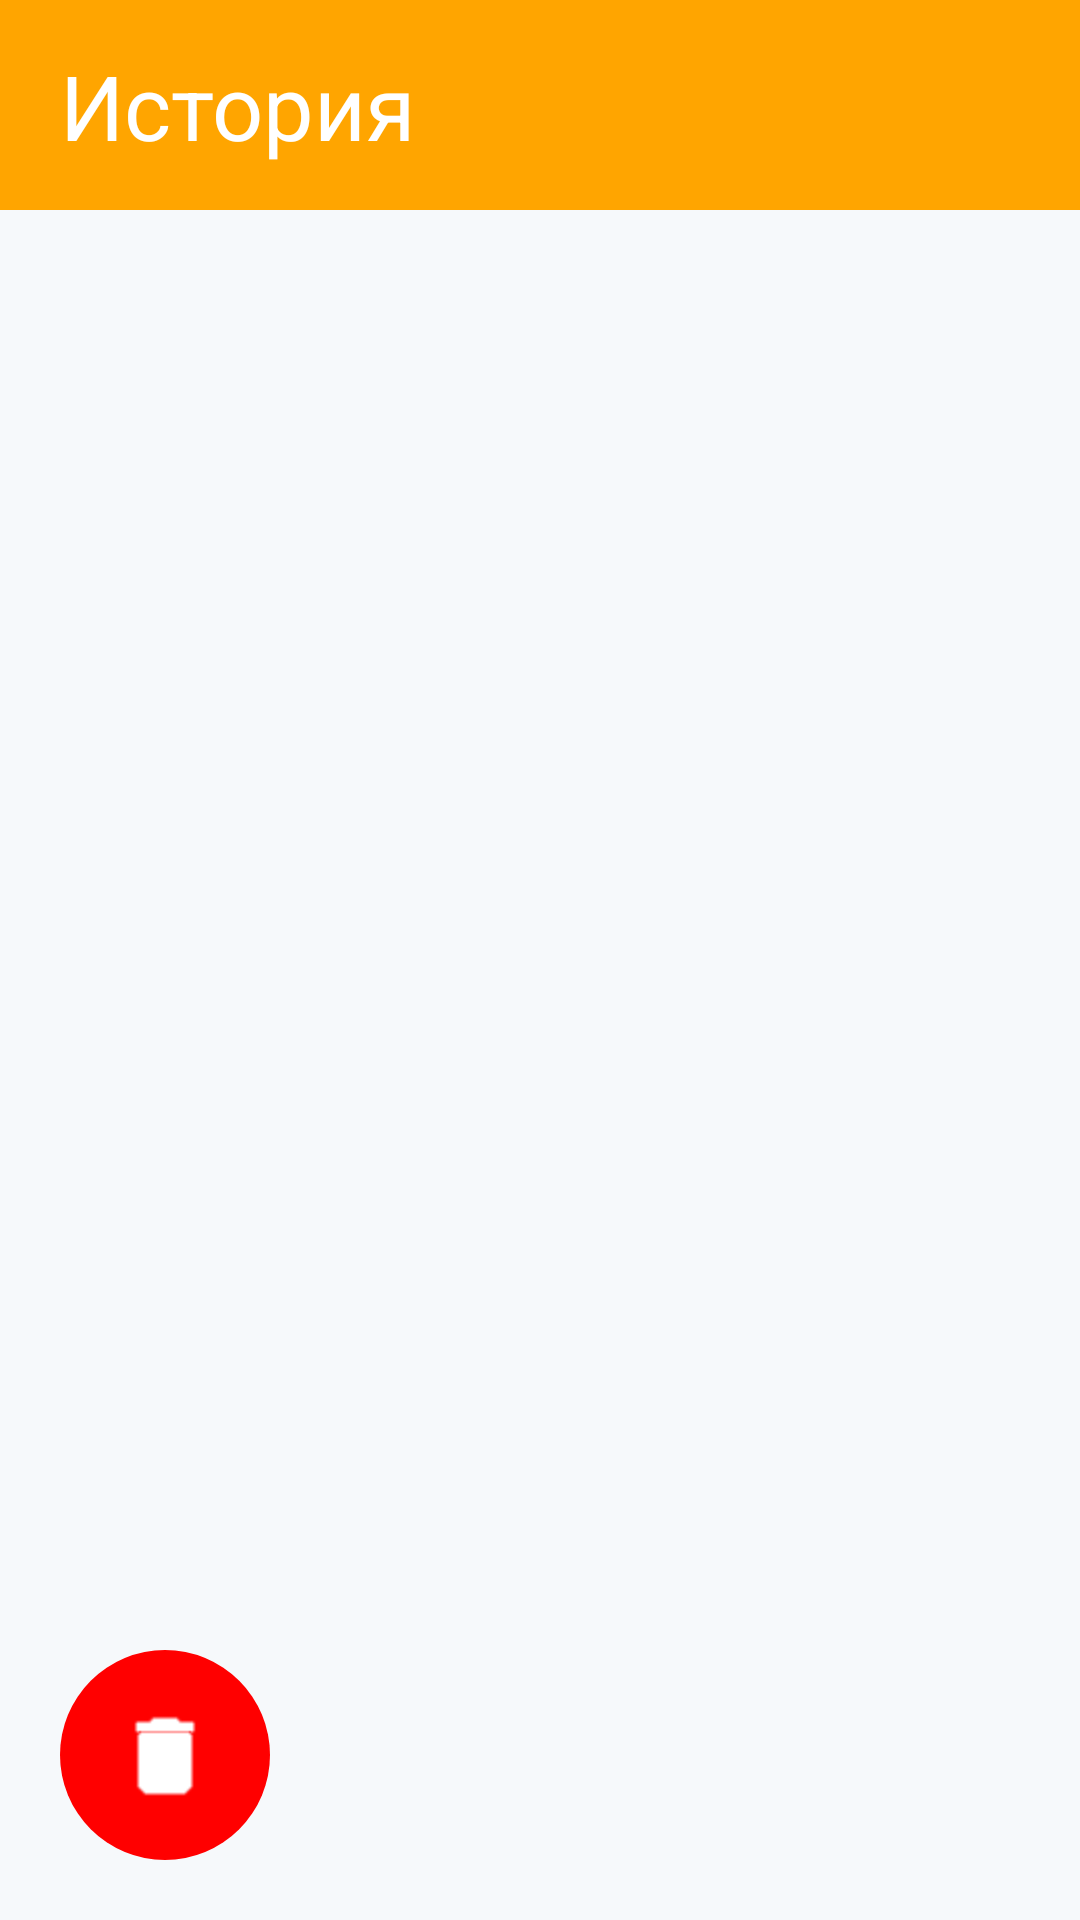

Icons on this 1080x1920 Android screen, each with its box as [left=x1, top=y1, right=x2, bottom=y2]:
delete: [left=60, top=1650, right=270, bottom=1860]
